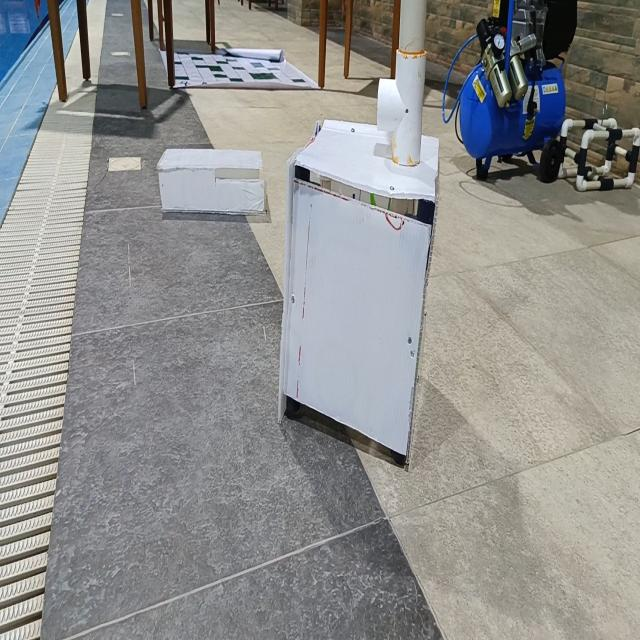Cube: (277, 117, 440, 467)
Cuboid: (156, 146, 266, 216)
